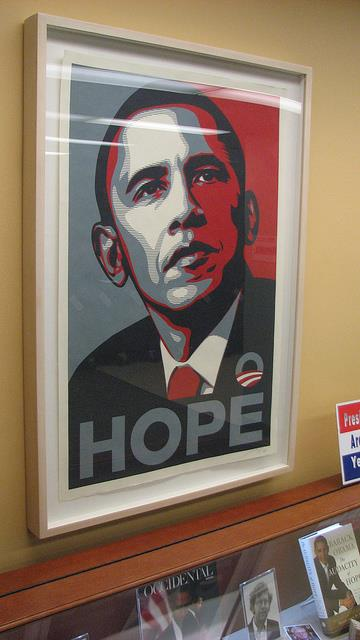Obama: (66, 61, 279, 493)
